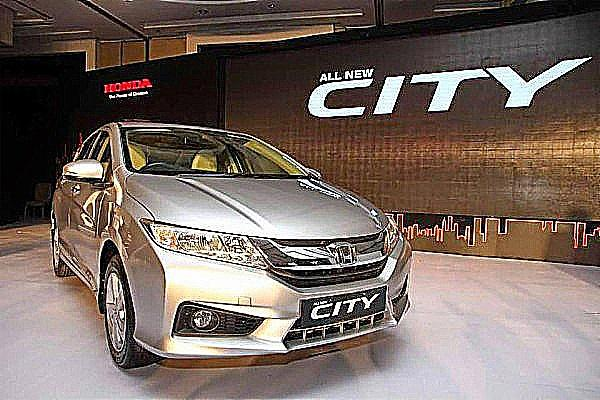Car hood: (128, 176, 392, 240)
Driver-s door - -F-R-: (85, 127, 113, 288)
Fender - -F-R-: (97, 159, 155, 313)
Front bumper: (124, 239, 413, 371)
Headlight - -L-: (374, 220, 406, 260)
Headlight - -R-: (139, 215, 274, 276)
Passenger-s door - -R-R-: (59, 126, 84, 254)
Rear light - -R-: (39, 170, 78, 202)
Side bumper - -R-: (56, 238, 107, 310)
Side mirror - -L-: (292, 162, 331, 188)
Side mirror - -R-: (53, 153, 113, 192)
